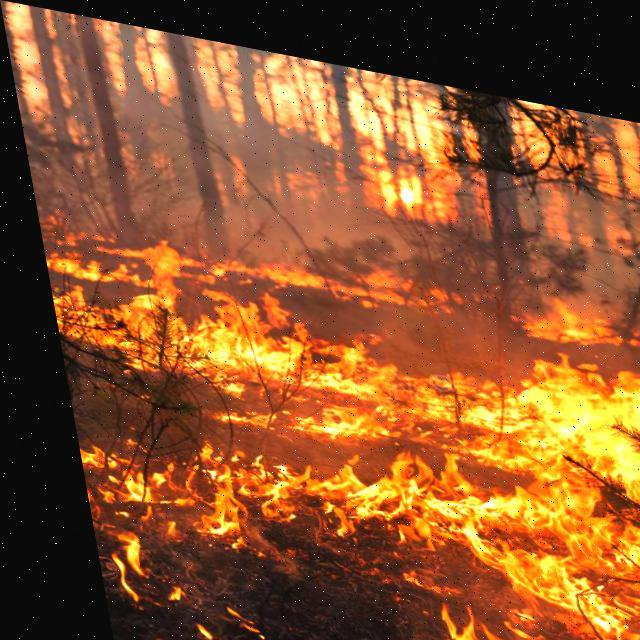Fire: (37, 203, 639, 639)
